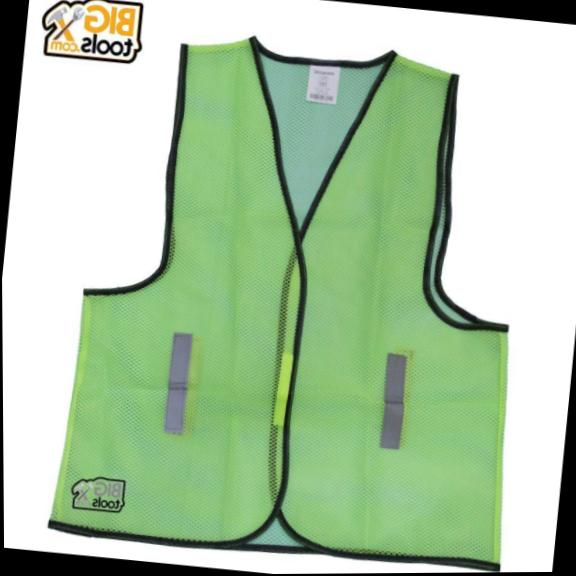safety_vest: (39, 14, 550, 576)
